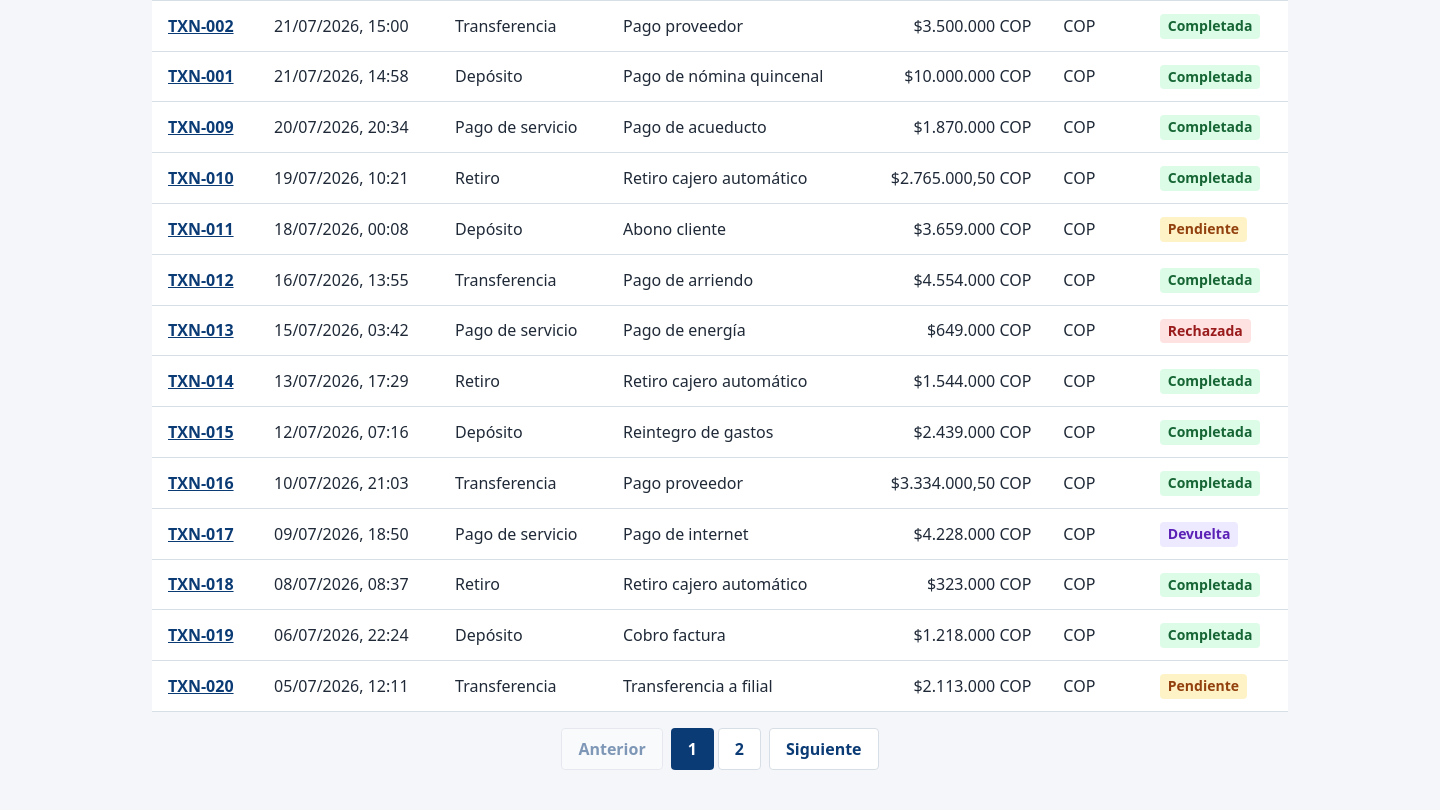
DashboardPage (integración) › al paginar actualiza la URL y muestra la página siguiente
(page scrolled)
Click the button "Siguiente" at (824, 749), box [769,728,879,770]
(page scrolled)
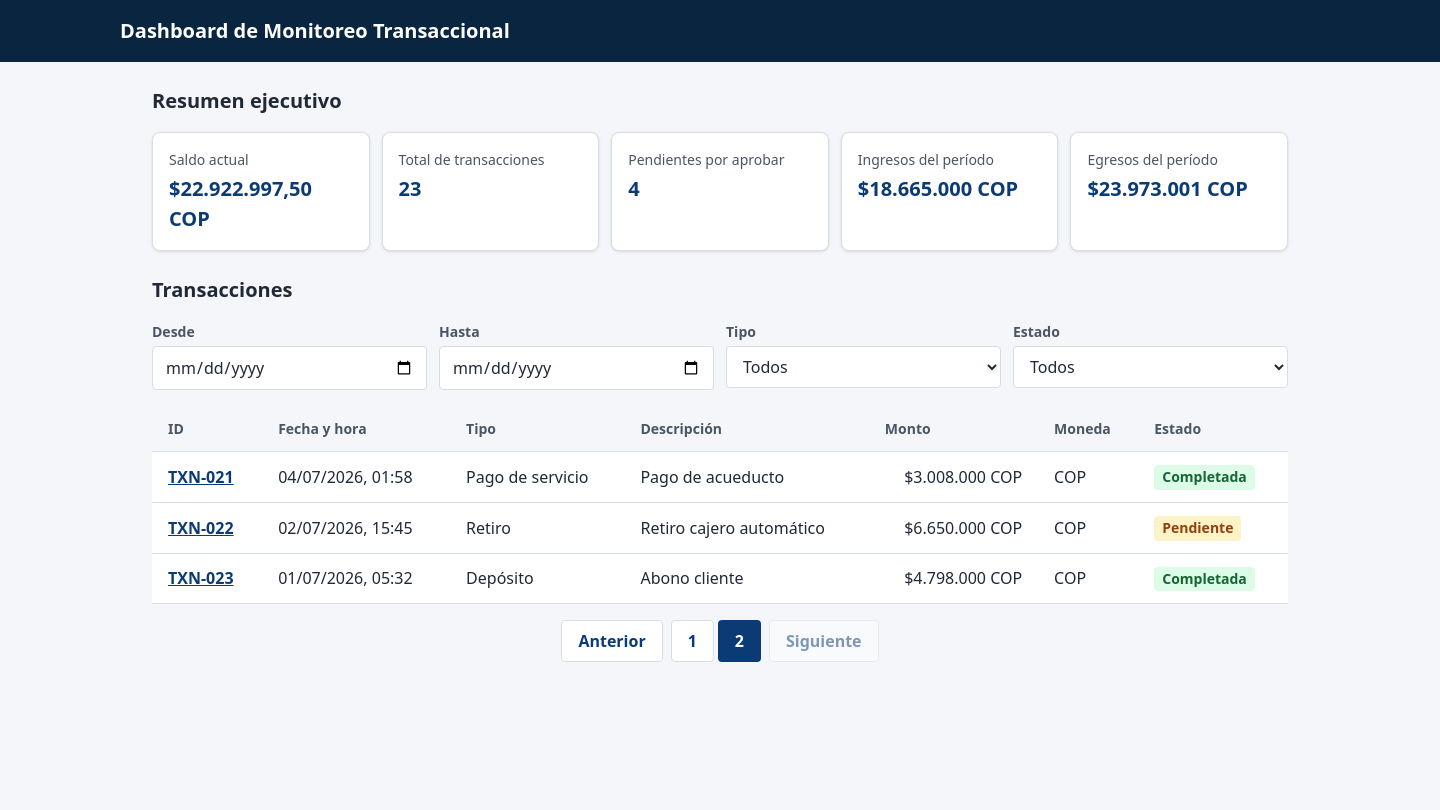
Result: the number of links is 3 at [168,466,234,488]; [168,517,234,539]; [168,568,234,590]
